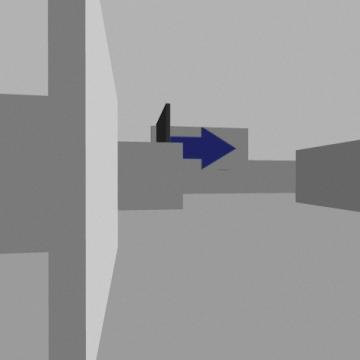blue_right: (170, 128, 235, 168)
